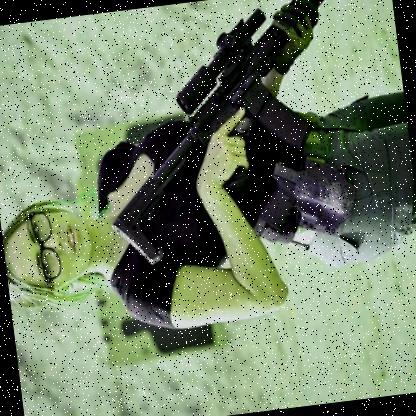rifle: (75, 0, 377, 266)
